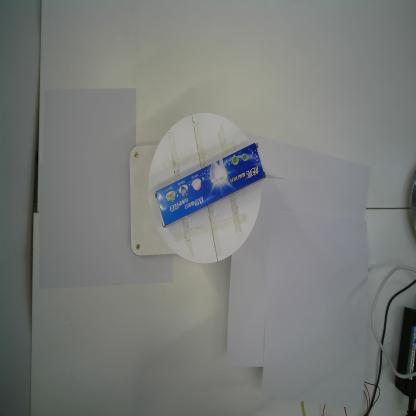Personal Hygiene: (153, 142, 266, 228)
